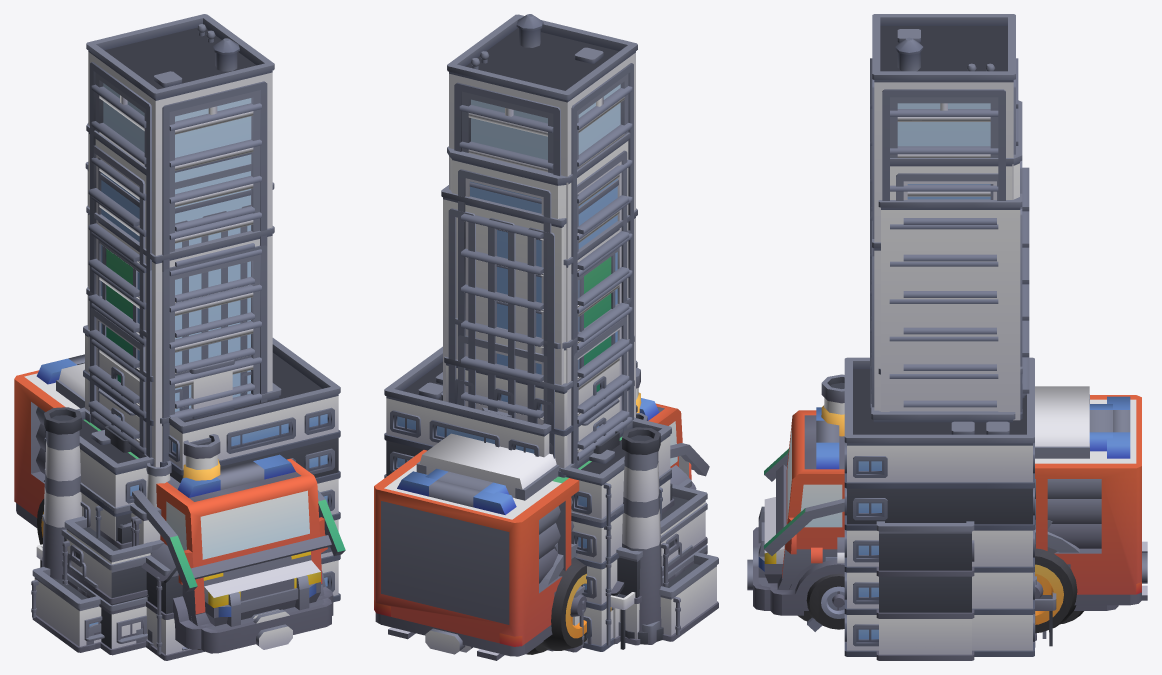
Rendered from stadt.glb.
The picture shows the model from 3 angles, left to right: view 1: azimuth 30°, elevation 25°; view 2: azimuth 150°, elevation 25°; view 3: azimuth 270°, elevation 25°; orthographic projection. The views are drawn at different scales.
Visible parts, largest first — view 1: building-skyscraper-d, body (×3), building-n (×2), building-skyscraper-c, building-skyscraper-b, building-f, building-l (×2), building-skyscraper-e, building-j, arm, building-skyscraper-a, building-o (+6 smaller); view 2: body (×3), building-skyscraper-d, building-skyscraper-b, building-skyscraper-e, building-n, building-f, building-j, building-m, building-skyscraper-c, building-skyscraper-a, building-l, building-q (+3 smaller); view 3: building-n, body (×3), building-skyscraper-d, building-skyscraper-e, building-r, building-skyscraper-b, building-skyscraper-c, building-l (×2), wheel-back-left, arm, wheel-front-left, building-skyscraper-a (+1 smaller).
Part boxes in pixels (x1=…): building-skyscraper-d: x1=86, y1=14, x2=274, y2=457; body (×3): x1=14, y1=354, x2=333, y2=653; building-n (×2): x1=36, y1=338, x2=340, y2=643; building-skyscraper-c: x1=86, y1=205, x2=274, y2=467; building-skyscraper-b: x1=86, y1=123, x2=254, y2=447; building-f: x1=42, y1=407, x2=163, y2=650; building-l (×2): x1=31, y1=383, x2=281, y2=652; building-skyscraper-e: x1=85, y1=162, x2=274, y2=415; building-j: x1=44, y1=407, x2=152, y2=541; arm: x1=132, y1=490, x2=345, y2=592; building-skyscraper-a: x1=86, y1=286, x2=254, y2=458; building-o: x1=145, y1=555, x2=204, y2=660; body (×3): x1=374, y1=398, x2=691, y2=660; building-skyscraper-d: x1=447, y1=14, x2=637, y2=463; building-skyscraper-b: x1=447, y1=132, x2=630, y2=465; building-skyscraper-e: x1=441, y1=179, x2=619, y2=458; building-n: x1=384, y1=346, x2=637, y2=649; building-f: x1=622, y1=427, x2=707, y2=644; building-j: x1=560, y1=418, x2=671, y2=651; building-m: x1=444, y1=335, x2=634, y2=477; building-skyscraper-c: x1=496, y1=208, x2=637, y2=465; building-skyscraper-a: x1=455, y1=297, x2=631, y2=468; building-l: x1=636, y1=367, x2=718, y2=641; building-q: x1=565, y1=502, x2=707, y2=652; building-n: x1=844, y1=357, x2=1049, y2=656; body (×3): x1=747, y1=386, x2=1147, y2=615; building-skyscraper-d: x1=870, y1=14, x2=1018, y2=411; building-skyscraper-e: x1=878, y1=193, x2=1022, y2=420; building-r: x1=876, y1=521, x2=974, y2=660; building-skyscraper-b: x1=871, y1=100, x2=1029, y2=407; building-skyscraper-c: x1=870, y1=221, x2=998, y2=412; building-l (×2): x1=821, y1=374, x2=1026, y2=436; wheel-back-left: x1=1035, y1=544, x2=1077, y2=633; arm: x1=764, y1=448, x2=844, y2=555; wheel-front-left: x1=806, y1=573, x2=844, y2=629; building-skyscraper-a: x1=871, y1=353, x2=1029, y2=403.
Size of the model in its own units: 2.71 by 5.54 by 3.45.
6 materials, 6 textured.
